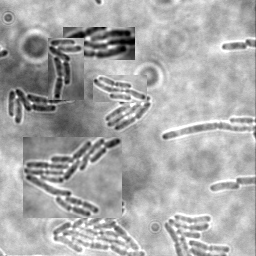Dividing: (161, 123, 255, 142), (221, 41, 248, 52)
Microcolony: (23, 137, 122, 218), (51, 200, 147, 255), (162, 212, 231, 255), (63, 27, 135, 60), (8, 89, 72, 126), (48, 38, 84, 100), (106, 96, 153, 132), (93, 75, 147, 102), (208, 182, 240, 193)
